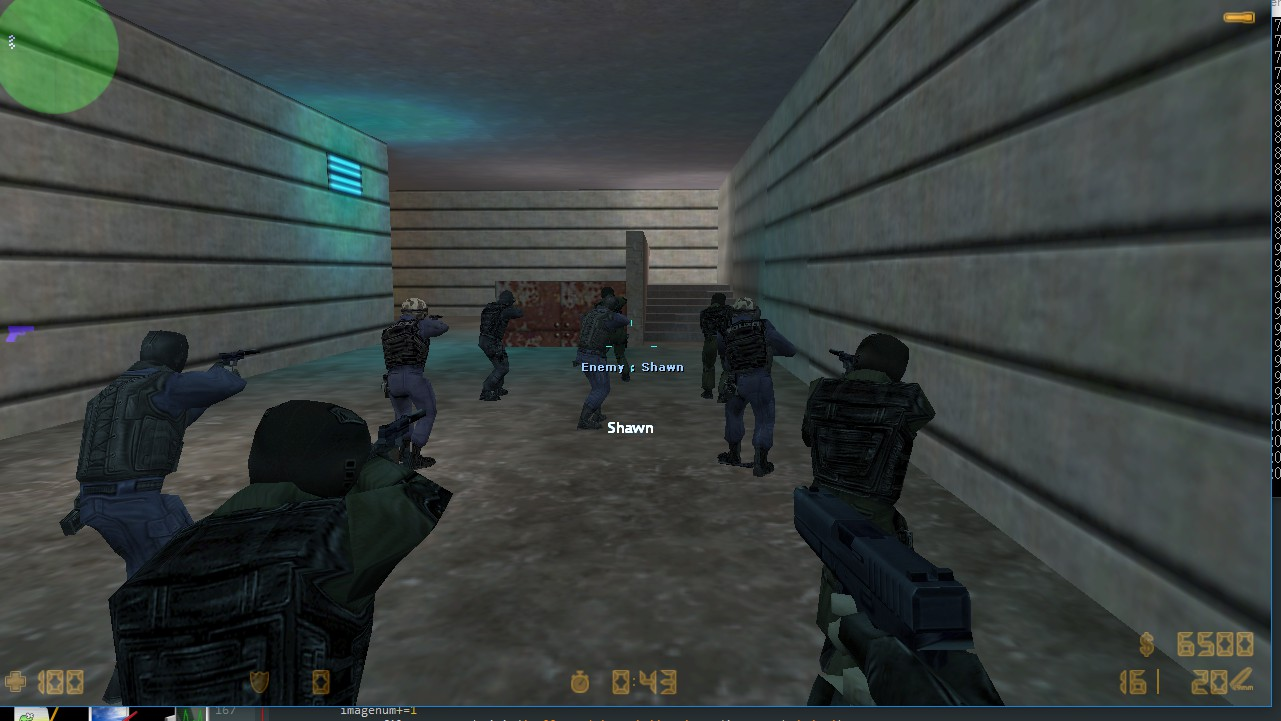person: (110, 408, 491, 704), (55, 306, 262, 591), (806, 330, 931, 631), (376, 295, 456, 474), (716, 295, 793, 473), (574, 289, 637, 433), (468, 287, 531, 411), (695, 288, 733, 406)
